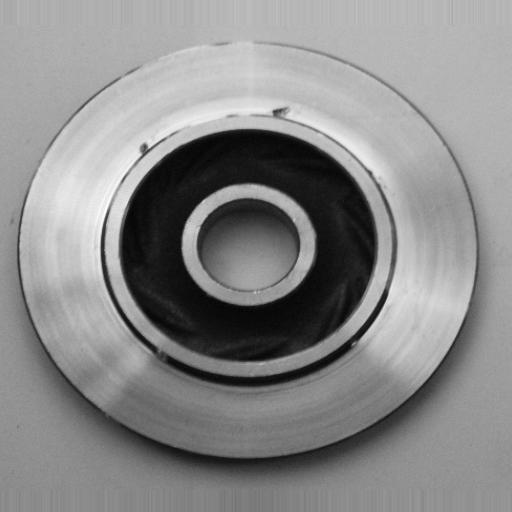crack: (264, 94, 299, 125), (129, 139, 157, 165)
scratch: (168, 106, 259, 136), (145, 331, 181, 381)
unpolished_casting: (18, 40, 482, 466)
